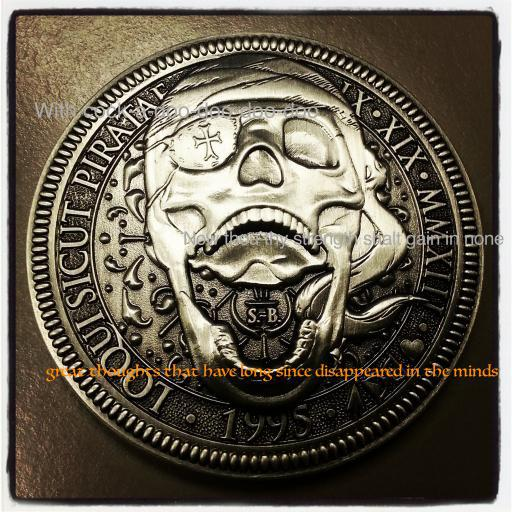Helvetica: (182, 231, 504, 249)
Luminari: (46, 364, 498, 382)
SignPainter: (33, 102, 319, 119)
